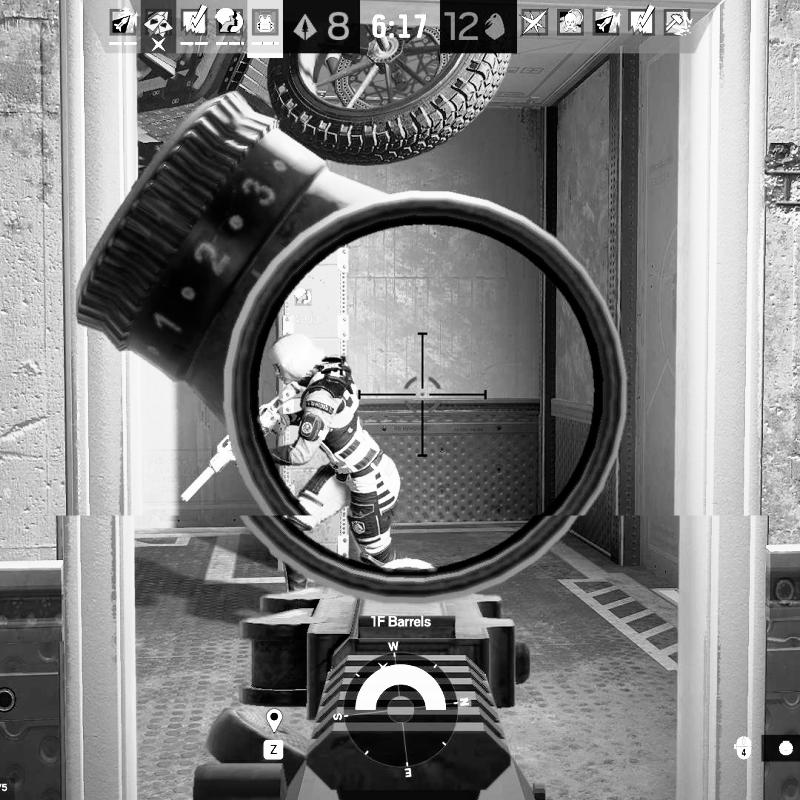Character: (182, 330, 404, 600)
Friend_label: (286, 287, 320, 324)
Head: (267, 332, 326, 386)
